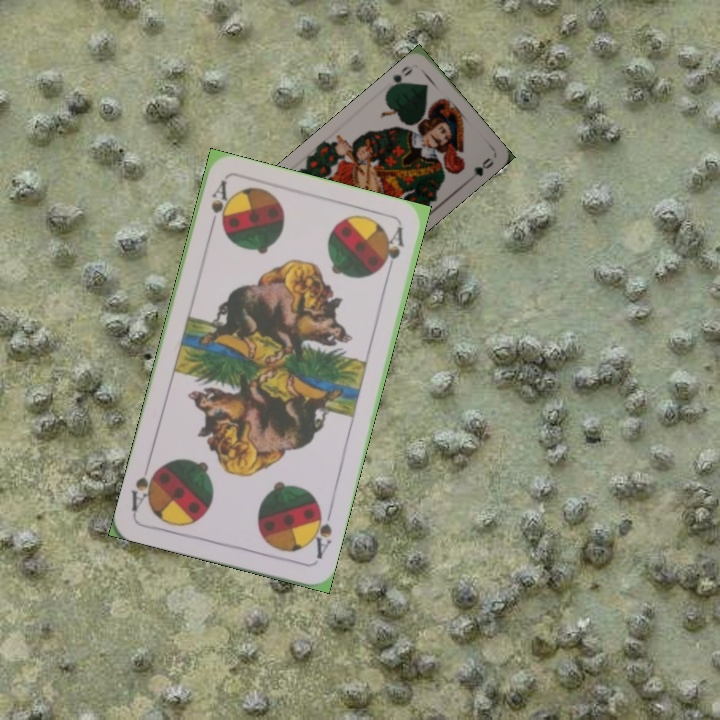GO: (384, 62, 416, 93)
SA: (305, 503, 335, 562), (205, 177, 233, 235)
